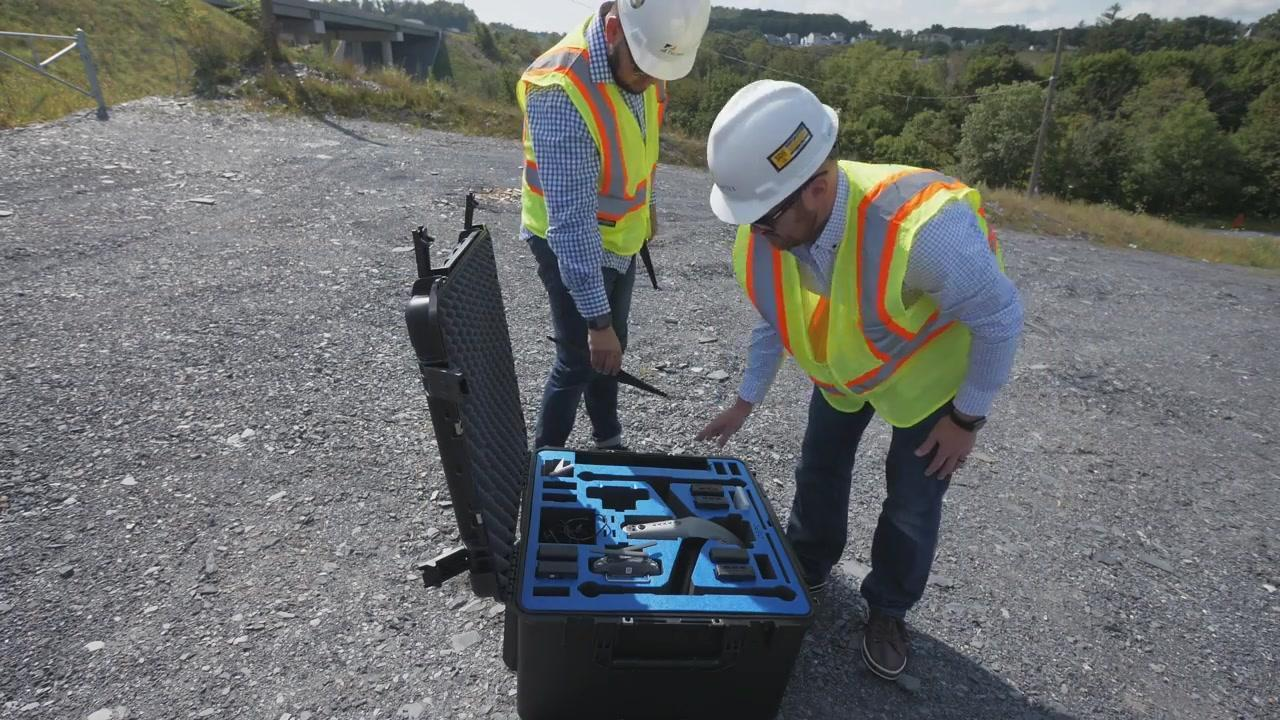vest: (729, 162, 1002, 428), (515, 9, 662, 257)
